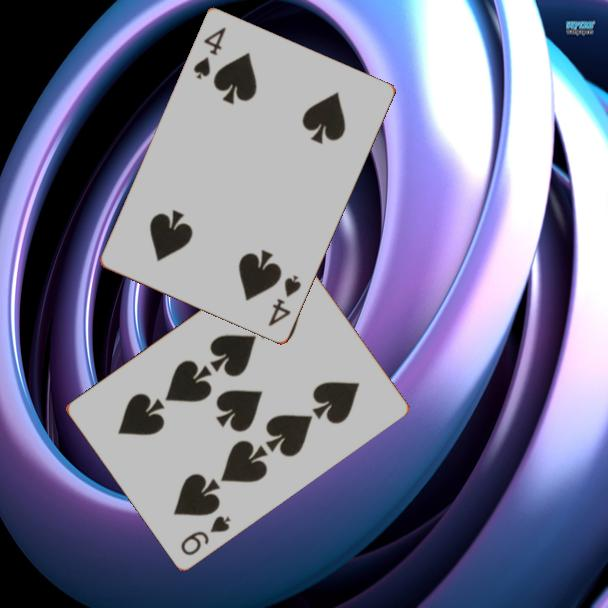s04: (190, 24, 229, 83), (265, 272, 304, 330)
s09: (177, 511, 234, 558)
